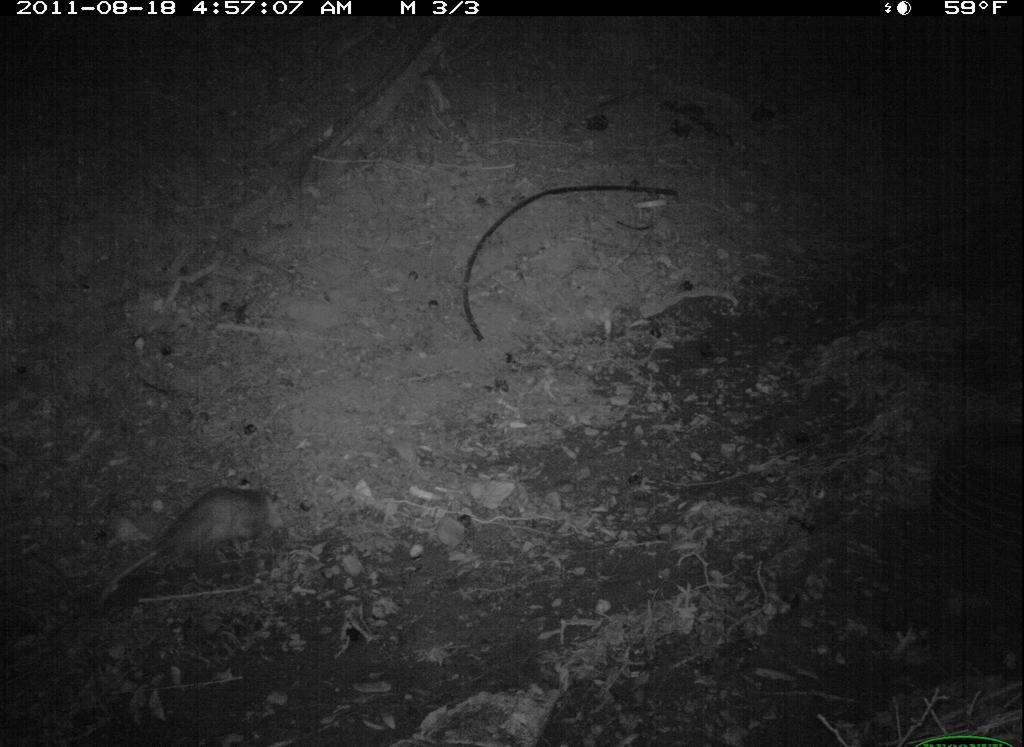opossum: (90, 474, 291, 612)
